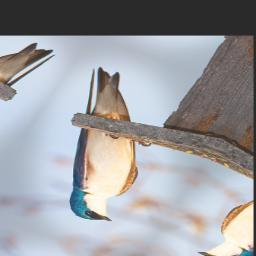Swallow: (8, 63, 196, 228)
